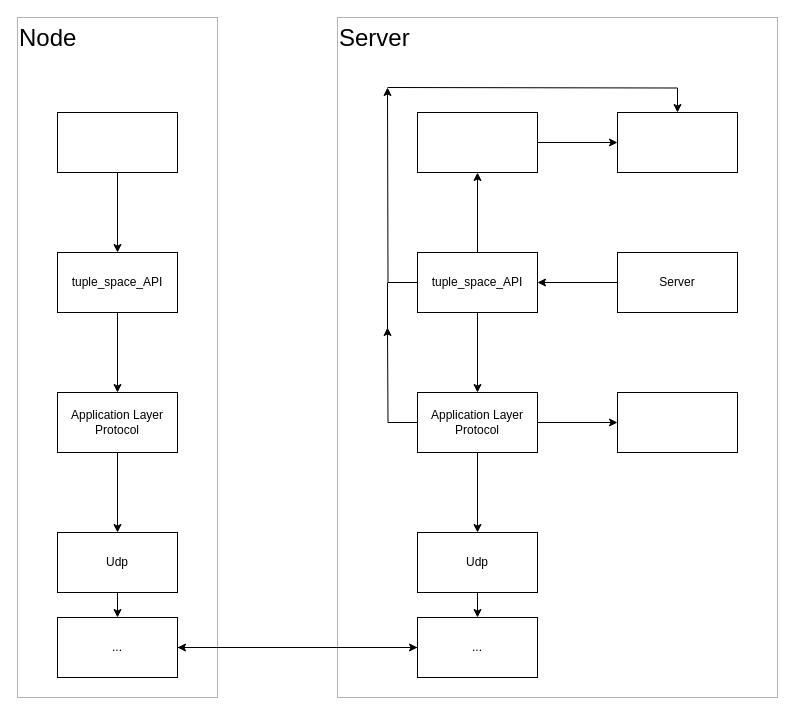
This 795x715 diagram has some shape labels left out. Each missing label, with the centre of its shape:
"ALP_Error" goes at point (677, 422).
"App1/App2" goes at point (117, 142).
"Timer" goes at point (677, 142).
"Tuple Space" goes at point (477, 142).
